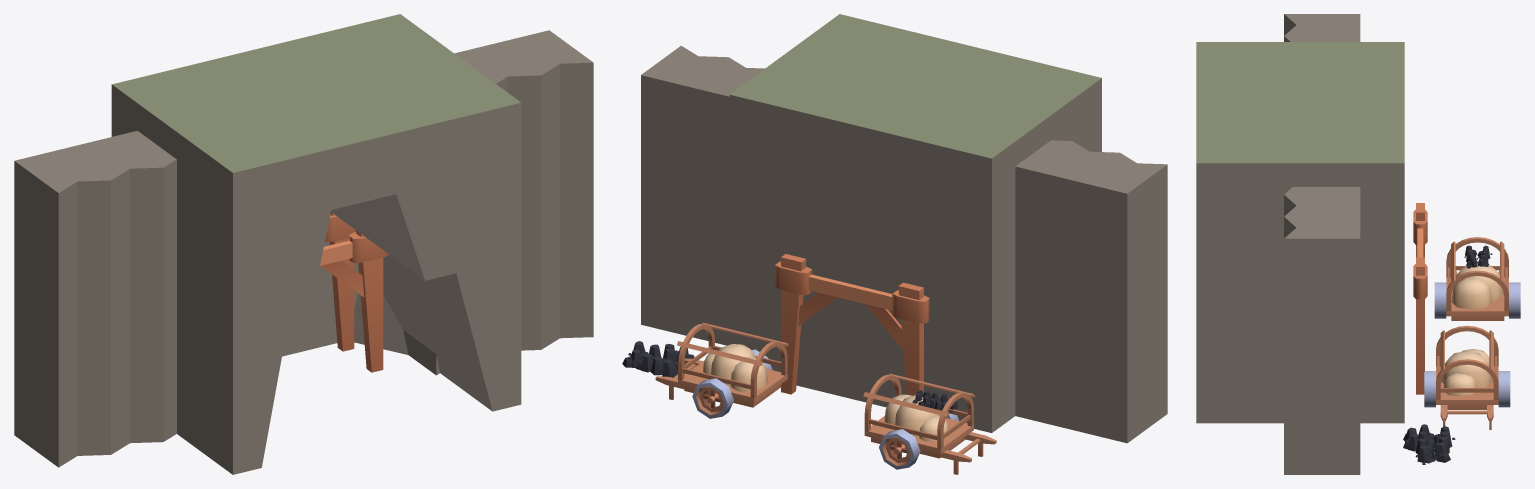
Rendered from london_workshop_coal.glb.
3 views of the same model, side by side, from view 1: azimuth 30°, elevation 25°; view 2: azimuth 150°, elevation 25°; view 3: azimuth 270°, elevation 25° (orthographic). The views are drawn at different scales.
Visible parts, largest first — view 1: cliff_blockCave_rock, cliff_large_rock (×2), wood-support (×2); view 2: cliff_blockCave_rock, cliff_large_rock (×2), cart-high (×2), wood-support, Group (×2); view 3: cliff_blockCave_rock, cliff_large_rock (×2), cart-high (×2), wood-support, Group (×4).
Boxes of the visible parts, x1,y1,x2,y2 form: cliff_blockCave_rock: [111, 14, 521, 474]; cliff_large_rock (×2): [14, 30, 593, 467]; wood-support (×2): [320, 212, 388, 372]; cliff_blockCave_rock: [729, 14, 1101, 432]; cliff_large_rock (×2): [641, 45, 1167, 443]; cart-high (×2): [655, 322, 996, 474]; wood-support: [775, 254, 929, 395]; Group (×2): [692, 378, 920, 469]; cliff_blockCave_rock: [1196, 42, 1404, 423]; cliff_large_rock (×2): [1284, 14, 1360, 474]; cart-high (×2): [1436, 237, 1508, 429]; wood-support: [1413, 203, 1427, 394]; Group (×4): [1424, 282, 1520, 407].
Size of the model in its own units: 20.4 by 11 by 12.45.
Materials: 6 (3 with a texture image).
